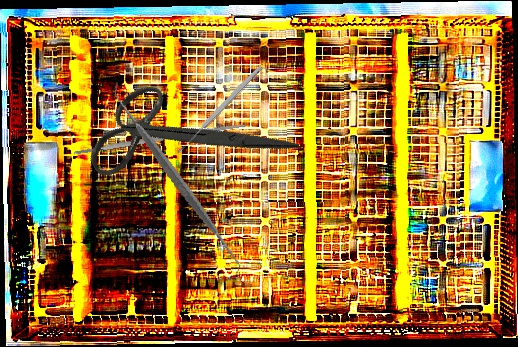Iris Scissors: (70, 33, 302, 241)
Scalpel Handle: (73, 121, 247, 156)
Spatula Surgical: (78, 81, 276, 276)
Surgical Spoon: (174, 63, 265, 156)
